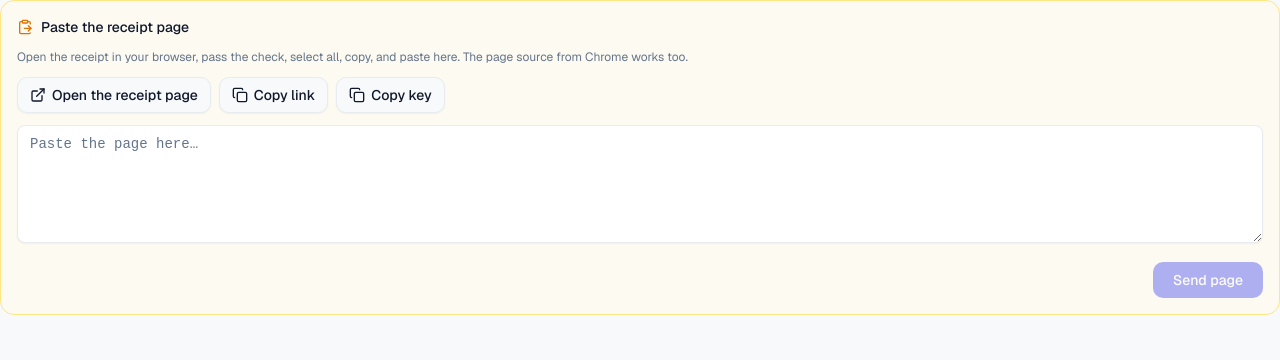
ReceiptPastePanel › falls back to a generic line for a failure it cannot name
Click the text box named "Paste the receipt page". click: (640, 184)
box: [17,125,1263,243]
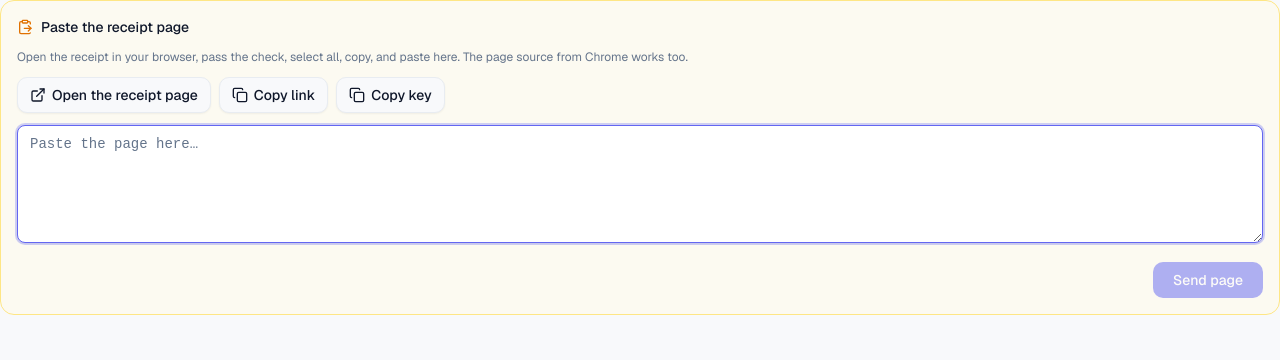
Type keys "whatever"
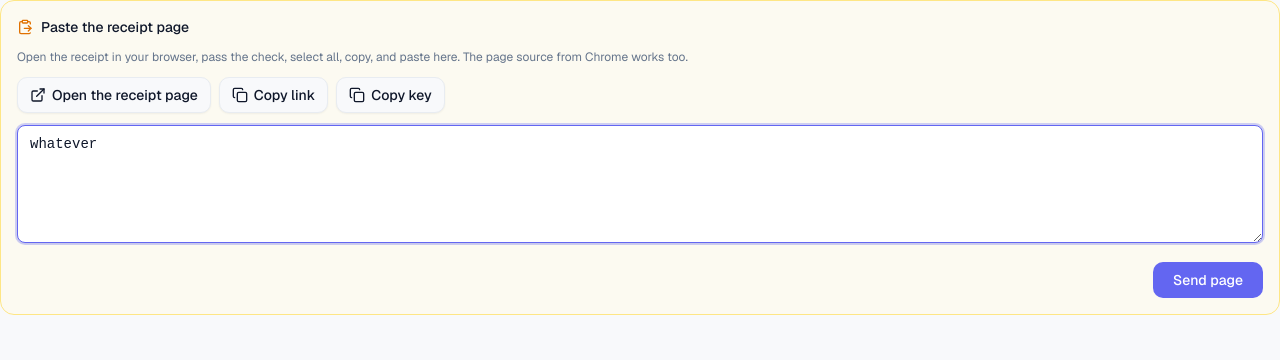
Click the button "Send page". click: (1208, 280)
box: [1153,262,1263,298]
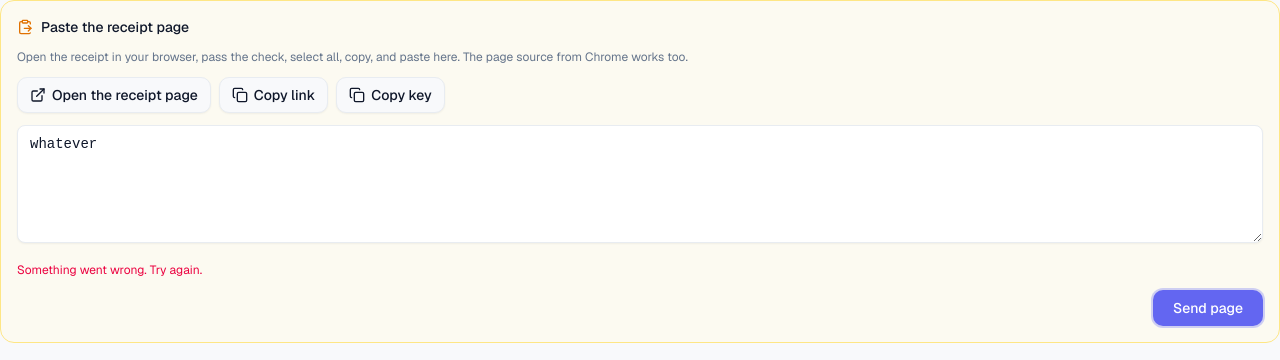
Check: the message reads "Something went wrong. Try again.", box [17,262,202,278]
